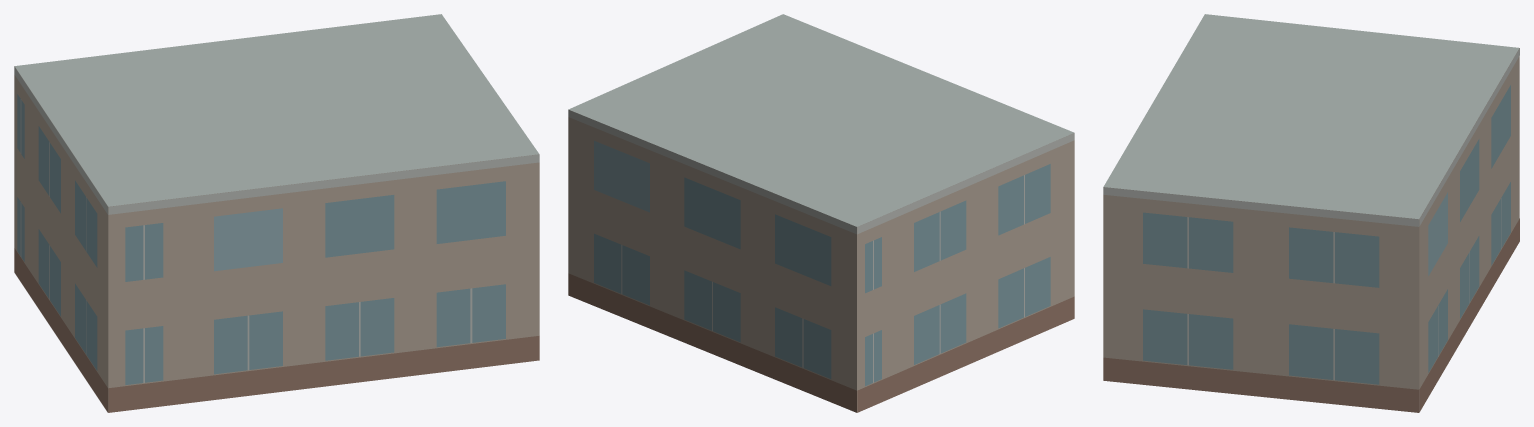
File: survey-upis-32898366.glb
3 renders of one model, left to right at view 1: azimuth 30°, elevation 25°; view 2: azimuth 150°, elevation 25°; view 3: azimuth 270°, elevation 25°, orthographic. The views are drawn at different scales.
Parts seen in each view (by area): view 1: survey-upis-32898366.tmp; view 2: survey-upis-32898366.tmp; view 3: survey-upis-32898366.tmp.
Part boxes in pixels (x1=…): survey-upis-32898366.tmp: x1=14, y1=14, x2=539, y2=412; survey-upis-32898366.tmp: x1=568, y1=14, x2=1074, y2=412; survey-upis-32898366.tmp: x1=1103, y1=14, x2=1519, y2=412.
Size of the model in its own units: 13.87 by 6.1 by 11.89.
